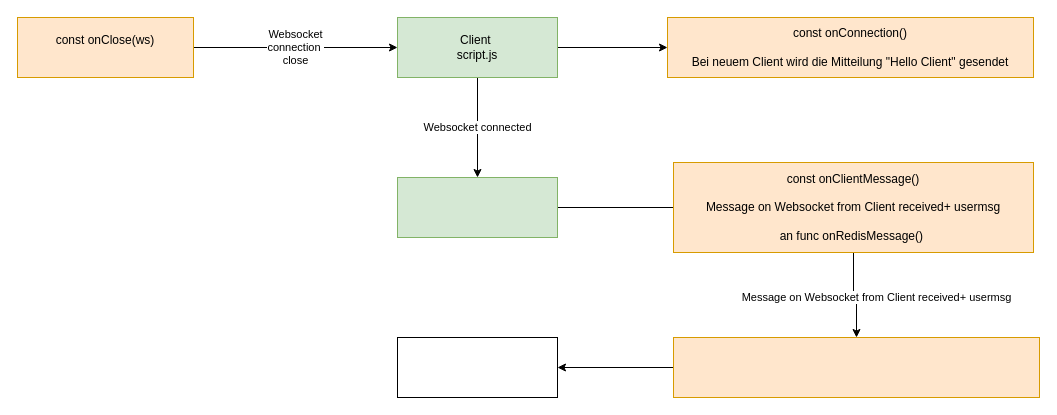
Image size: 1057x415. Some labels were removed from this diagram. The centre of each missing label's shape, as x and y in pixels:
const onRedisMessage() message an alle Clients senden: point (856, 367)
function sendToServer() "usermsg" aus Chatfenster: point (477, 207)
